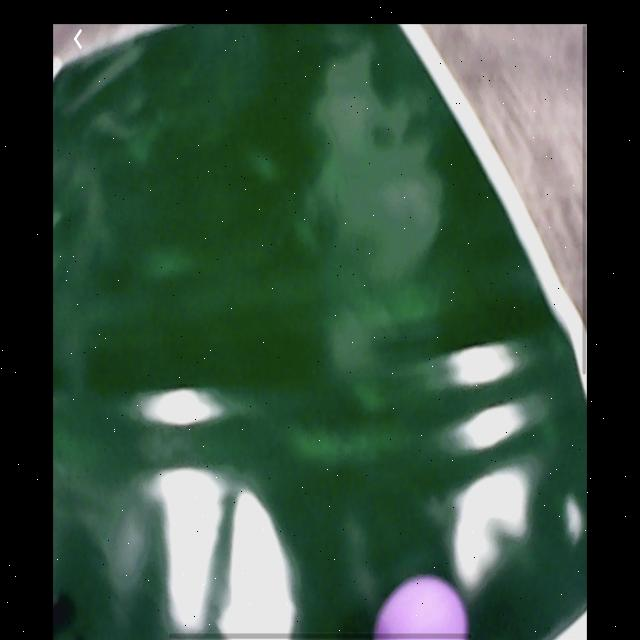ball: (373, 574, 471, 639)
